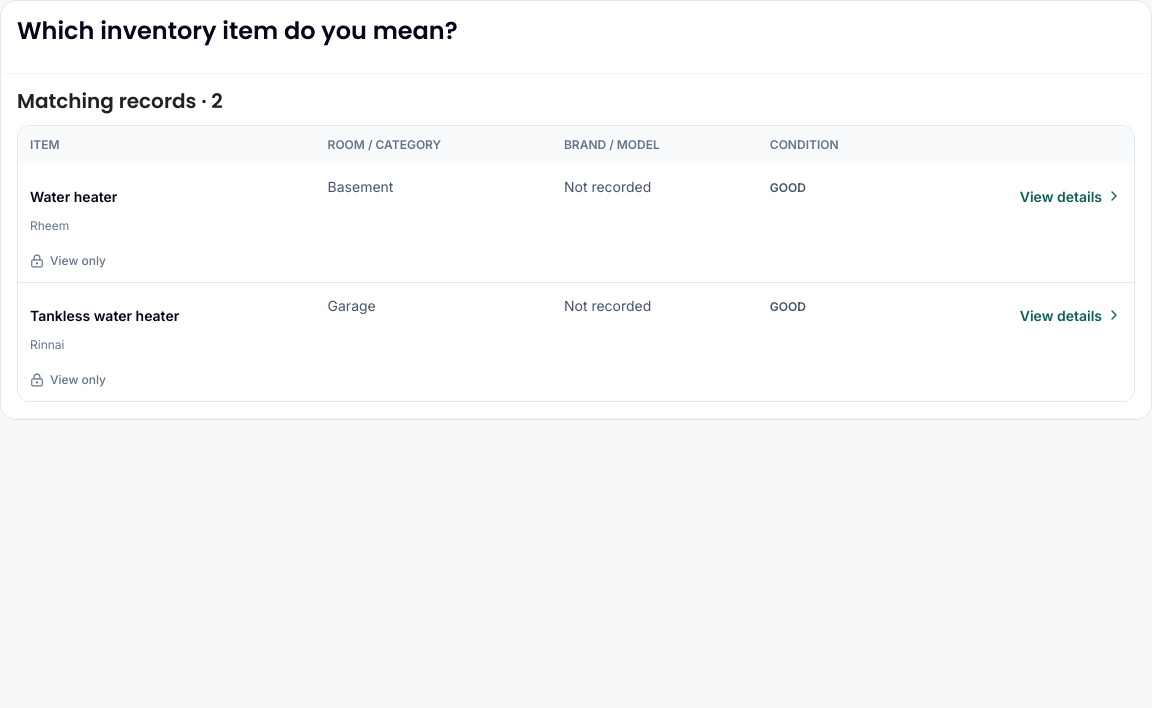
Scenario: selecting an item from the ambiguous-match disambiguation list also opens inline detail, not a navigation
Click the button "Water heater": (74, 196) top-left (30, 176), bottom-right (117, 216)
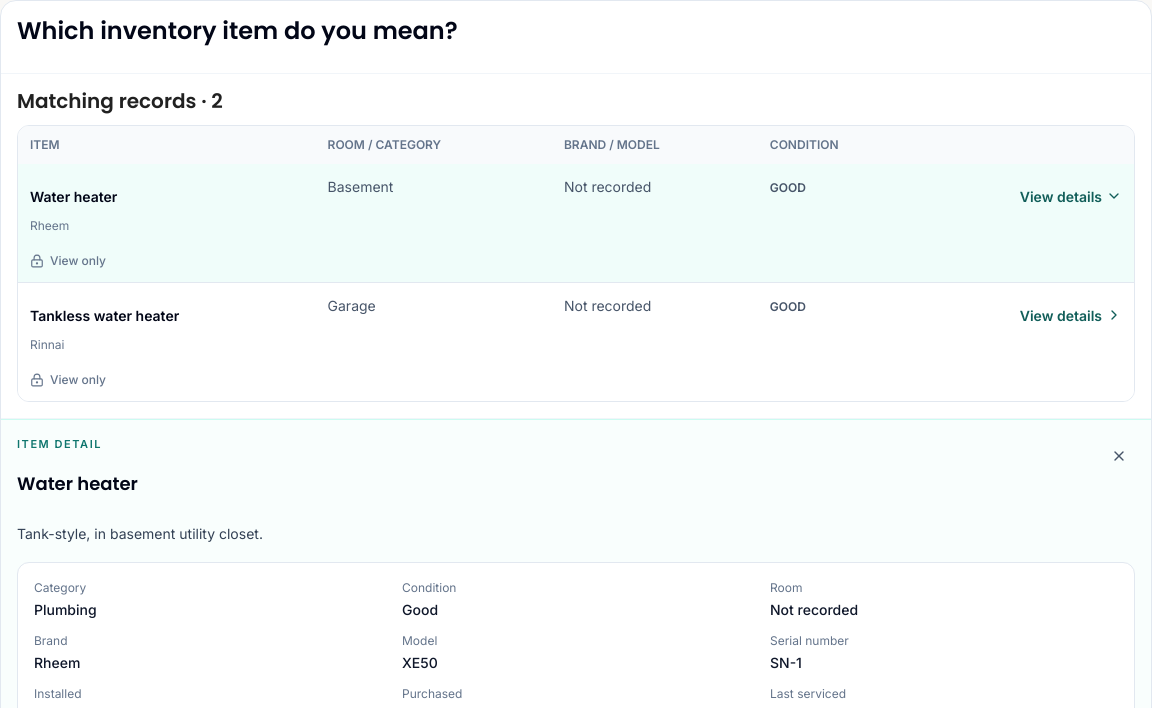
Now the text "Tank-style, in basement utility closet." is shown, box top-left (17, 525), bottom-right (263, 542)
